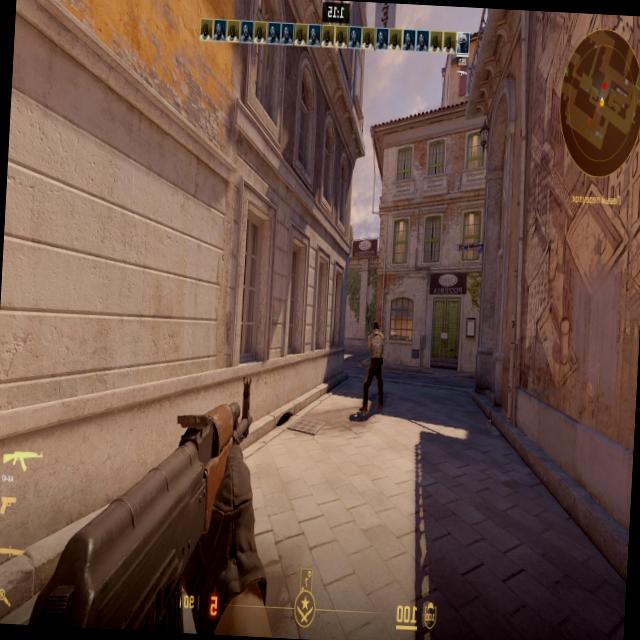T: (366, 320, 384, 397)
T_heat: (374, 322, 378, 338)
